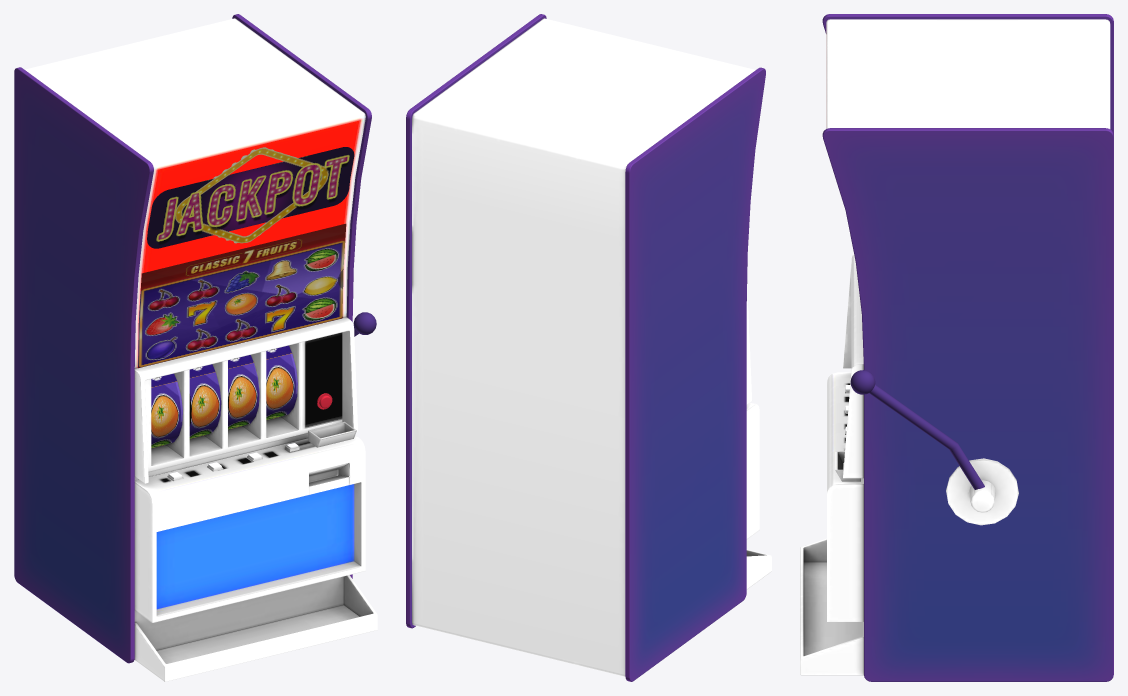
Rendered from slot.fbx.
3 renders of one model, left to right at view 1: azimuth 30°, elevation 25°; view 2: azimuth 150°, elevation 25°; view 3: azimuth 270°, elevation 25°, orthographic. The views are drawn at different scales.
Visible parts, largest first — view 1: polySurface98, polySurface99, polySurface85, polySurface94, polySurface92, polySurface77, polySurface90, polySurface79, polySurface75, polySurface75.003, polySurface75.002, polySurface75.001 (+1 smaller); view 2: polySurface99, polySurface98, polySurface79, polySurface85, polySurface77; view 3: polySurface79, polySurface99, polySurface85, polySurface88, polySurface90, polySurface77, polySurface98, polySurface73.
Part boxes in pixels (x1=…): polySurface98: x1=14, y1=67, x2=153, y2=663; polySurface99: x1=25, y1=18, x2=365, y2=650; polySurface85: x1=134, y1=317, x2=365, y2=622; polySurface94: x1=138, y1=223, x2=346, y2=368; polySurface92: x1=147, y1=147, x2=354, y2=248; polySurface77: x1=134, y1=575, x2=377, y2=681; polySurface90: x1=156, y1=605, x2=359, y2=663; polySurface79: x1=232, y1=14, x2=371, y2=578; polySurface75: x1=151, y1=373, x2=182, y2=448; polySurface75.003: x1=266, y1=345, x2=297, y2=419; polySurface75.002: x1=228, y1=355, x2=259, y2=429; polySurface75.001: x1=189, y1=364, x2=221, y2=438; polySurface99: x1=412, y1=18, x2=755, y2=676; polySurface98: x1=625, y1=67, x2=765, y2=681; polySurface79: x1=406, y1=14, x2=546, y2=628; polySurface85: x1=746, y1=300, x2=759, y2=539; polySurface77: x1=746, y1=549, x2=771, y2=589; polySurface79: x1=822, y1=128, x2=1113, y2=681; polySurface99: x1=826, y1=19, x2=1110, y2=128; polySurface85: x1=827, y1=254, x2=863, y2=621; polySurface88: x1=946, y1=458, x2=1018, y2=525; polySurface90: x1=803, y1=562, x2=863, y2=655; polySurface77: x1=800, y1=538, x2=863, y2=675; polySurface98: x1=822, y1=14, x2=1113, y2=134; polySurface73: x1=850, y1=370, x2=984, y2=489.
Size of the model in its own units: 8.37 by 16.83 by 8.67.
7 materials, 5 textured.
